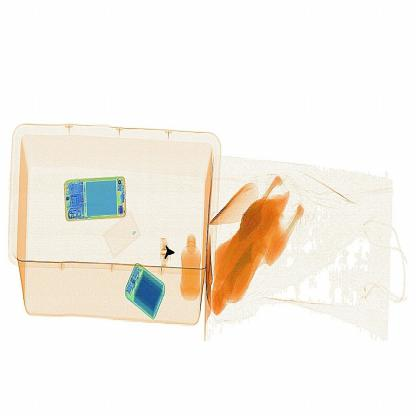gun: (154, 235, 180, 268)
